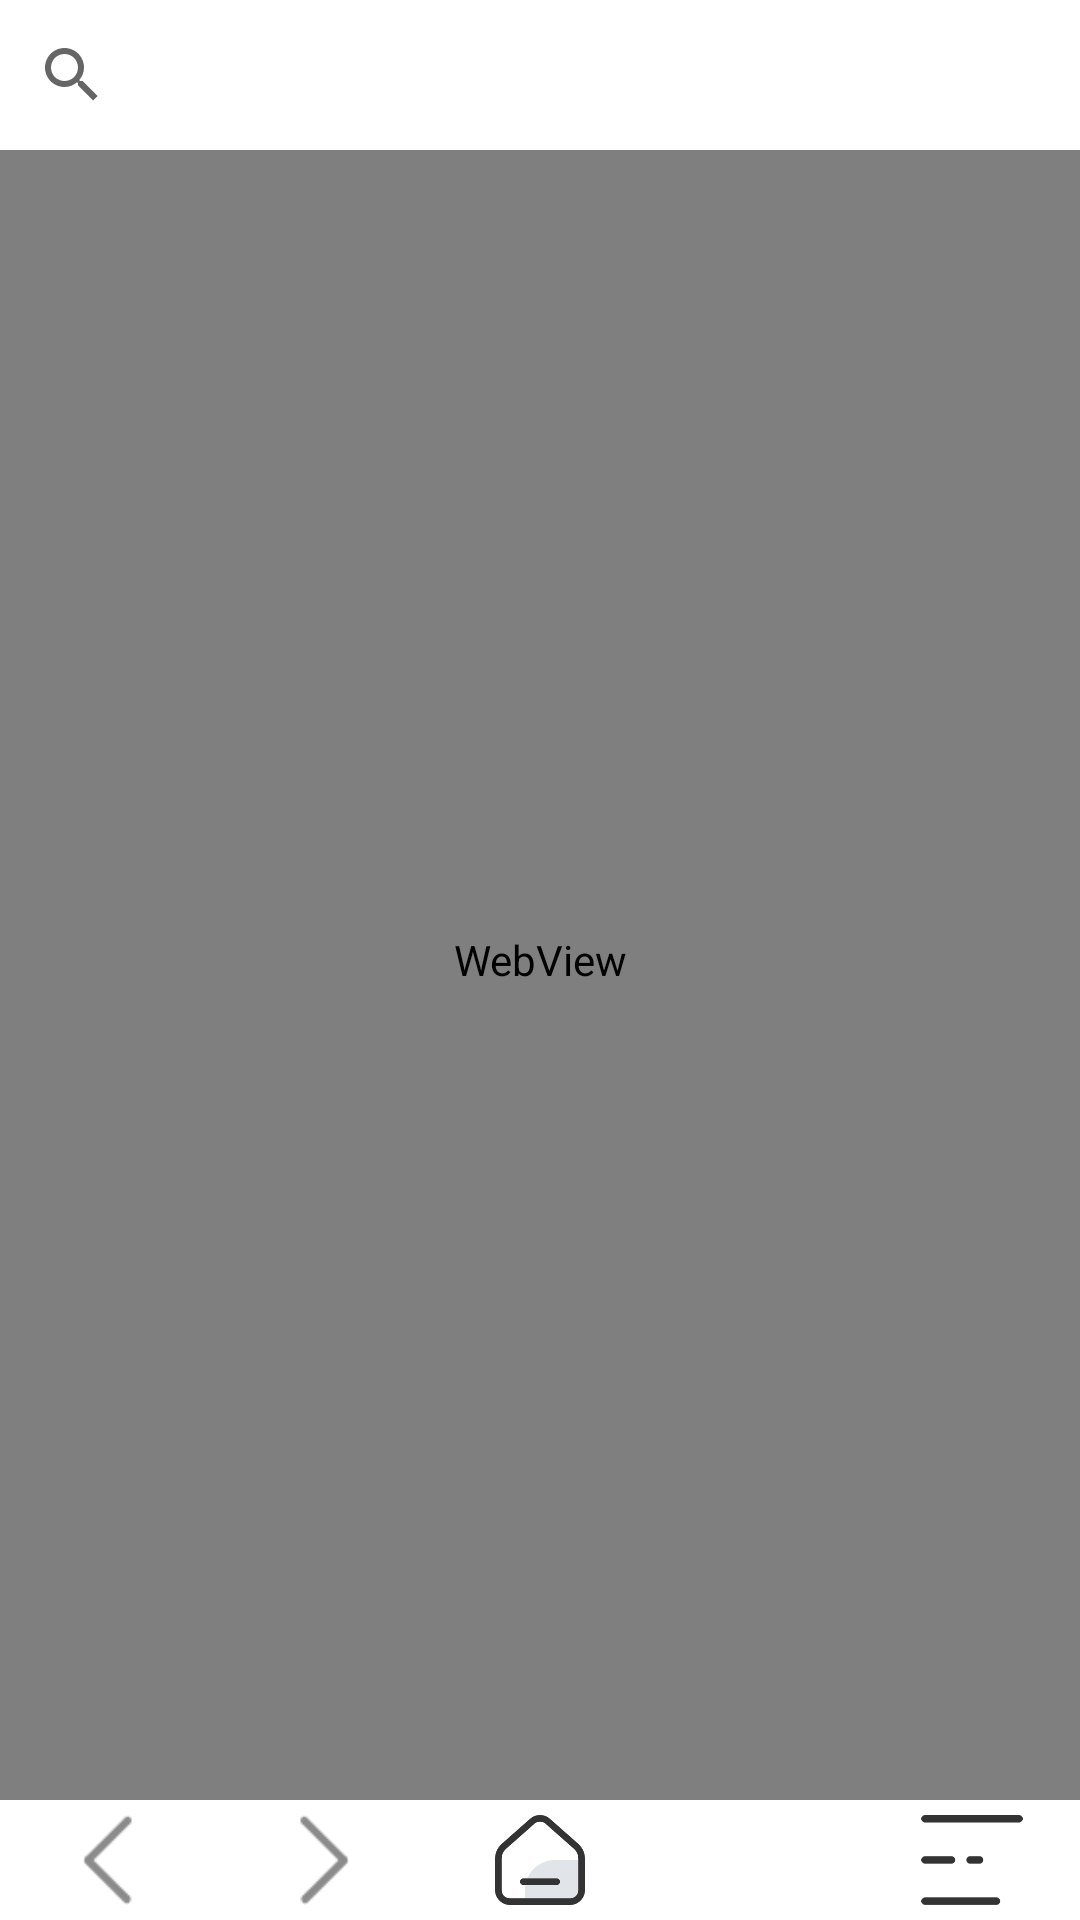

Icon click points for this 1080px×1920px phone screenshot, format (x,y):
home: (540,1860)
menu: (972,1860)
